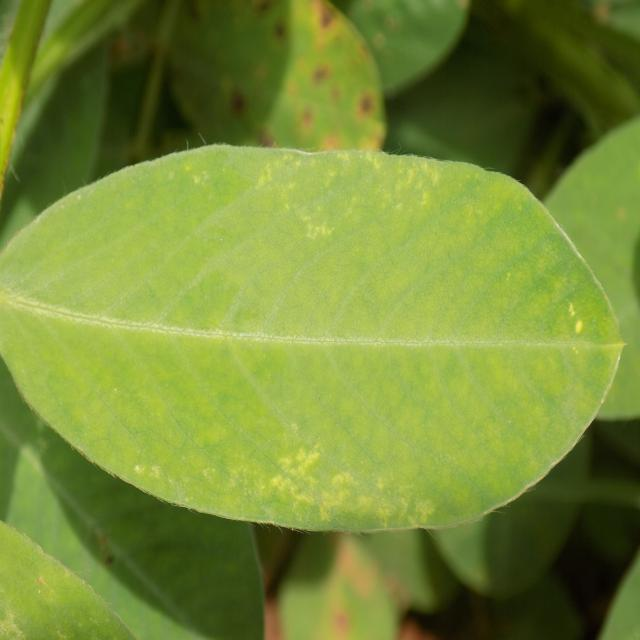Ground nut_healthy: (0, 140, 627, 534)
